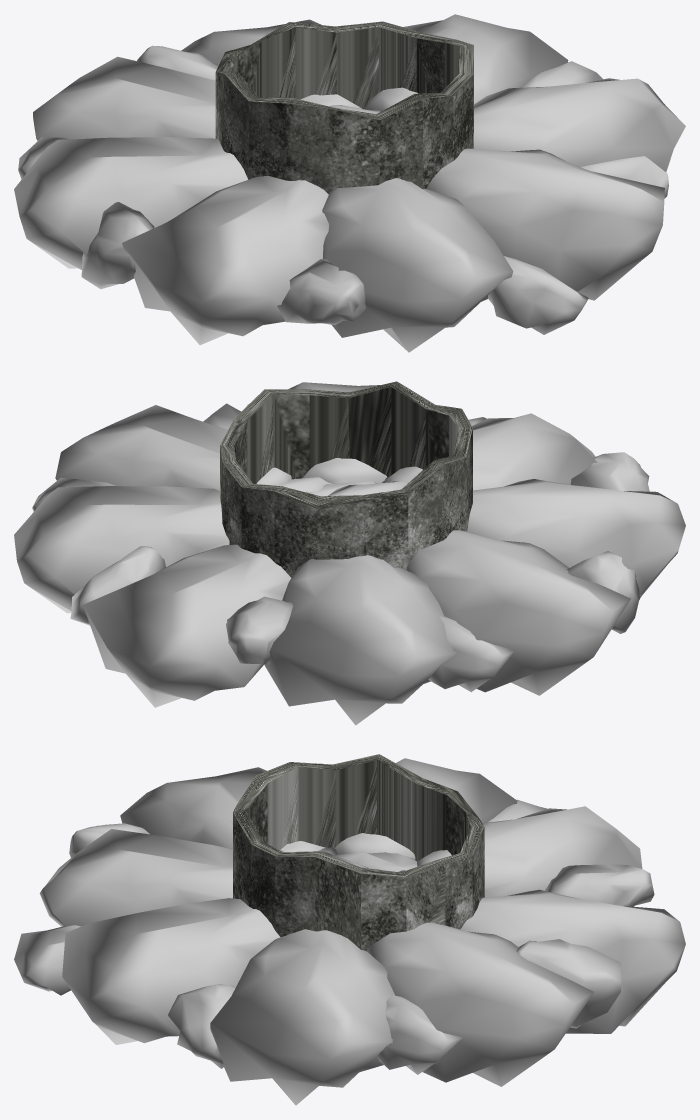
File: hologram.FBX
3 renders of one model, top to bottom at view 1: azimuth 30°, elevation 25°; view 2: azimuth 150°, elevation 25°; view 3: azimuth 270°, elevation 25°, orthographic. The views are drawn at different scales.
Visible parts, largest first — view 1: Cylinder001, Rock_008, Rock_004, Rock_010, Rock_007, Rock_009, Rock_006, Rock_005, Rock_020, Rock_019, Rock_021, Rock_011 (+4 smaller); view 2: Cylinder001, Rock_006, Rock_007, Rock_011, Rock_005, Rock_008, Rock_009, Rock_004, Rock_014, Rock_012, Rock_013, Rock_021 (+6 smaller); view 3: Cylinder001, Rock_009, Rock_005, Rock_010, Rock_011, Rock_004, Rock_006, Rock_008, Rock_013, Rock_007, Rock_017, Rock_012 (+5 smaller).
Boxes of the visible parts, box(x1,y1,x2,y2) form: Cylinder001: box(215, 21, 473, 194); Rock_008: box(122, 175, 329, 345); Rock_004: box(322, 178, 513, 352); Rock_010: box(426, 148, 664, 300); Rock_007: box(14, 137, 248, 269); Rock_009: box(473, 78, 685, 172); Rock_006: box(33, 56, 215, 140); Rock_005: box(364, 14, 568, 111); Rock_020: box(487, 256, 588, 334); Rock_019: box(277, 259, 365, 324); Rock_021: box(81, 202, 154, 289); Rock_011: box(181, 19, 361, 108); Cylinder001: box(220, 381, 472, 577); Rock_006: box(264, 555, 456, 725); Rock_007: box(407, 530, 630, 695); Rock_011: box(83, 544, 291, 707); Rock_005: box(14, 486, 229, 613); Rock_008: box(467, 479, 685, 596); Rock_009: box(55, 405, 291, 490); Rock_004: box(382, 413, 597, 490); Rock_014: box(428, 616, 514, 692); Rock_012: box(226, 596, 292, 664); Rock_013: box(70, 546, 165, 625); Rock_021: box(567, 551, 641, 633); Cylinder001: box(233, 754, 484, 951); Rock_009: box(210, 929, 395, 1105); Rock_005: box(366, 922, 593, 1086); Rock_010: box(62, 898, 280, 1044); Rock_011: box(460, 889, 685, 1033); Rock_004: box(39, 829, 232, 926); Rock_006: box(417, 806, 642, 897); Rock_008: box(120, 767, 325, 851); Rock_013: box(516, 939, 621, 1028); Rock_007: box(334, 758, 517, 859); Rock_017: box(377, 995, 462, 1074); Rock_012: box(545, 864, 654, 906).
Bounding box in the file's own units: 453 × 143 × 453.
